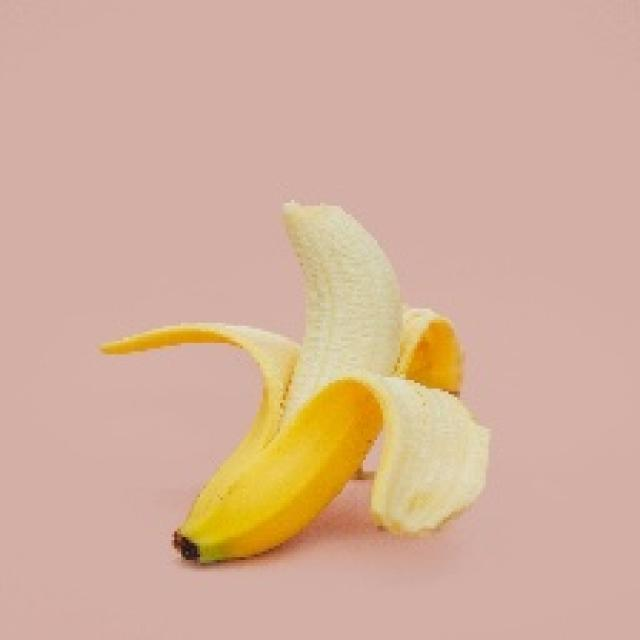Banana: (97, 197, 489, 563)
